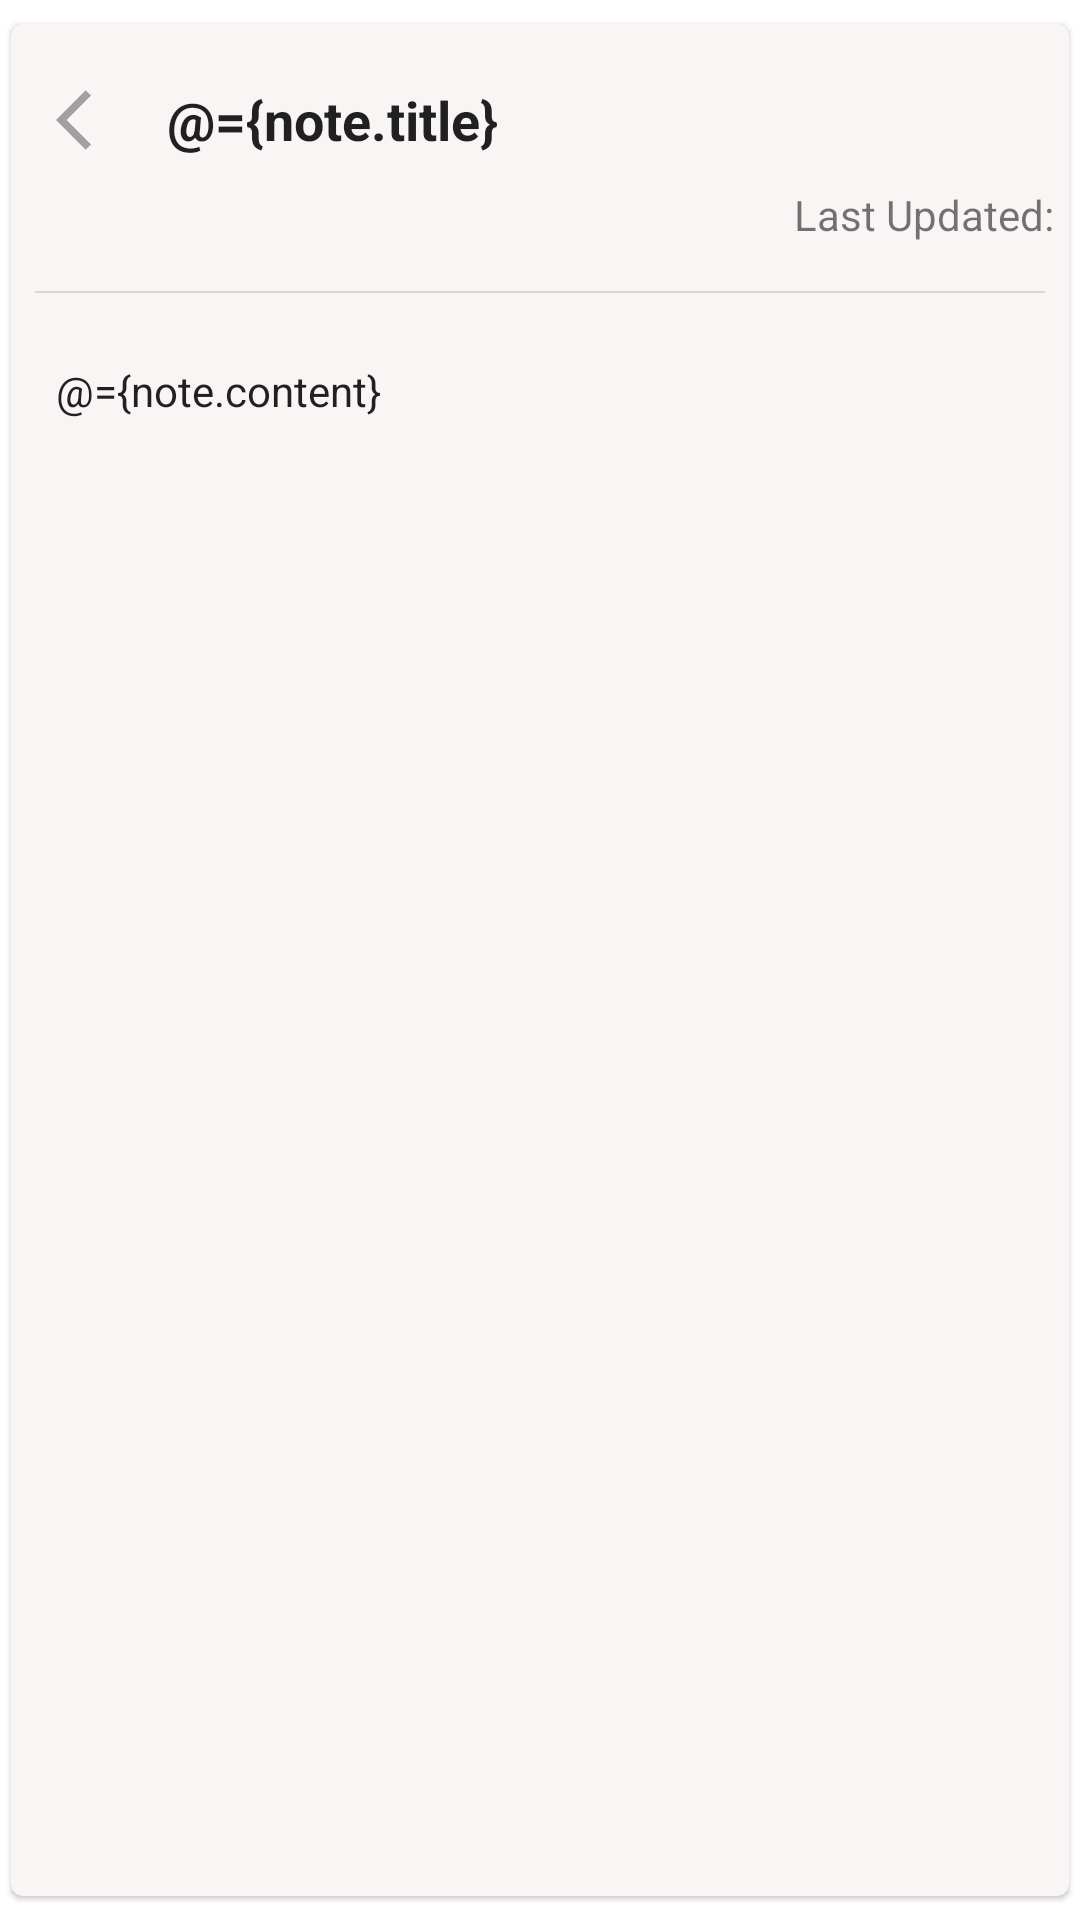

Locate icon controls on the screen. Image size 1080px×1920px, boxes as (x1, y1, x2, y2).
arrow: (56, 90, 91, 150)
